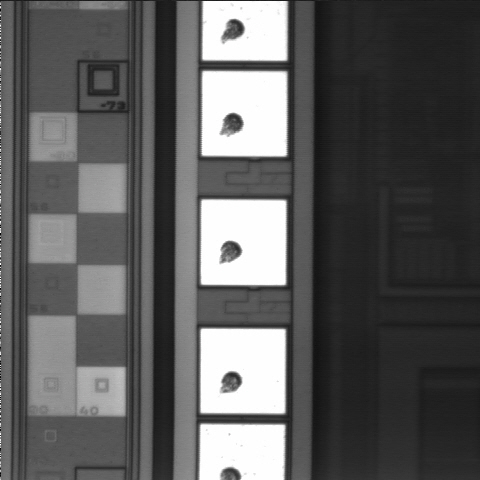pad: (202, 71, 287, 156), (201, 200, 286, 285), (201, 329, 285, 413)
